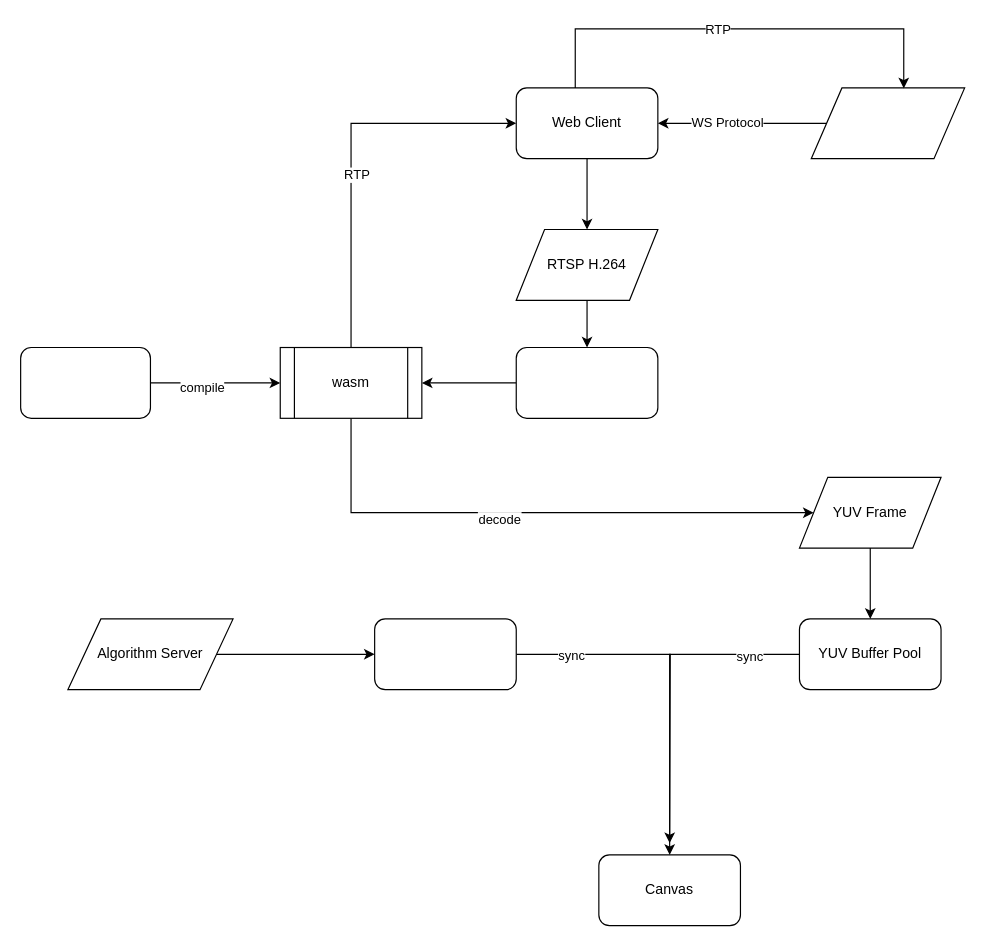
This 985x946 diagram has some shape labels left out. Each missing label, with the centre of its shape:
Buffer Pool: pixel 586 382
FFMPEG: pixel 84 382
Label Buffer: pixel 444 654
Stream Server: pixel 887 123
